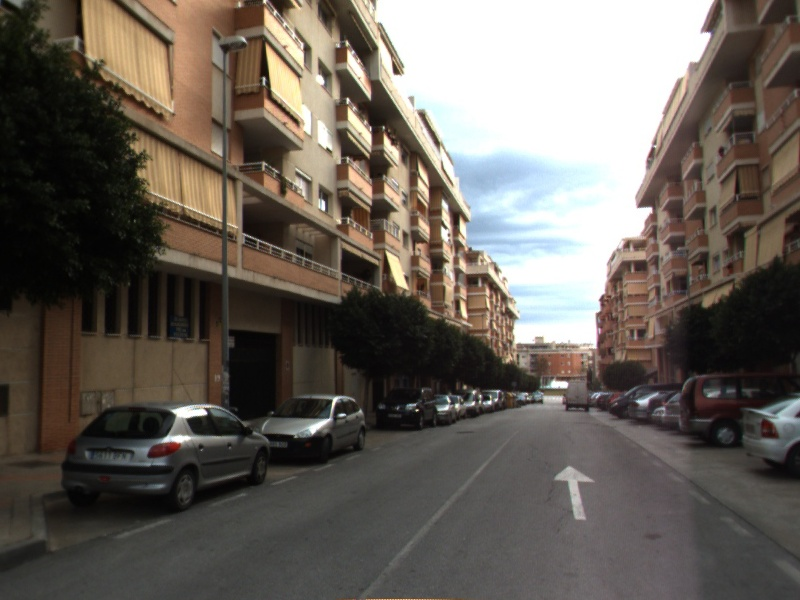STRAIGHT: (550, 464, 597, 522)
